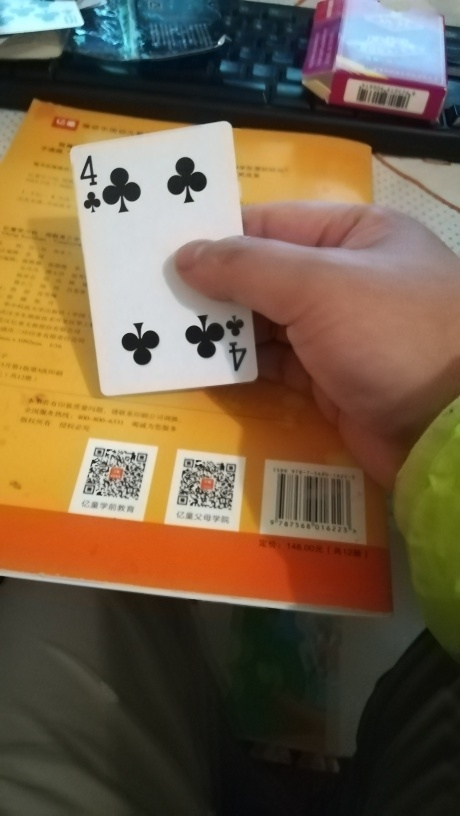mh 4: (62, 120, 261, 396)
